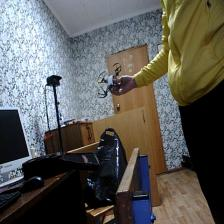drone: (96, 62, 126, 101)
